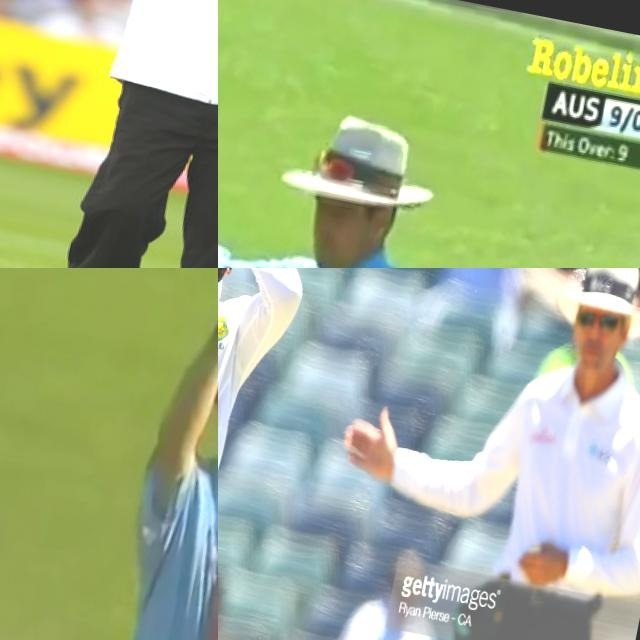No_Ball: (275, 268, 640, 640)
Out: (38, 268, 218, 640)
Six: (0, 0, 218, 268)
Wide: (218, 56, 598, 268)
